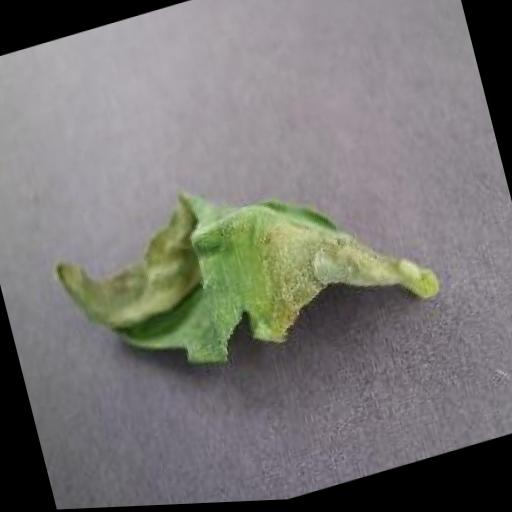Late Blight: (40, 127, 446, 408)
